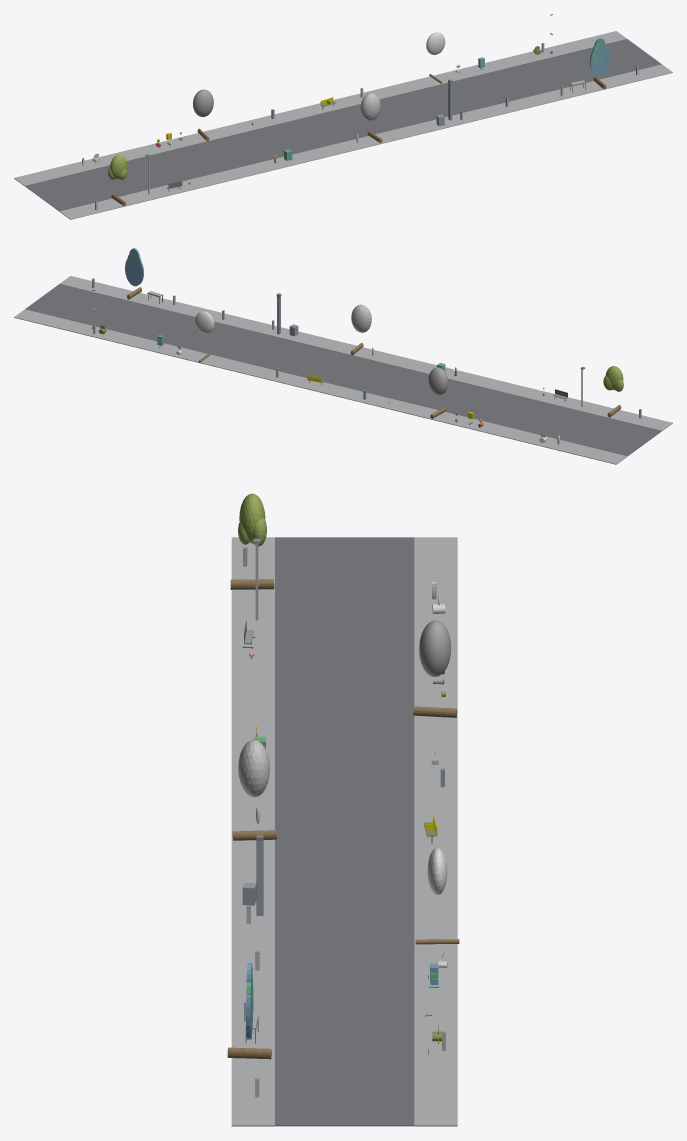
The picture shows the model from 3 angles, top to bottom: view 1: azimuth 30°, elevation 25°; view 2: azimuth 150°, elevation 25°; view 3: azimuth 270°, elevation 25°; orthographic projection. The views are drawn at different scales.
Visible parts, largest first — view 1: road_slab, sidewalk_left, sidewalk_right, inst_0016, inst_0014, inst_0013, inst_0012, inst_0015; view 2: road_slab, sidewalk_right, sidewalk_left, inst_0016, inst_0014, inst_0013, inst_0012, inst_0015; view 3: road_slab, sidewalk_right, sidewalk_left, inst_0013, inst_0014, inst_0012, inst_0016, inst_0015.
Part boxes in pixels (left/top/right/bottom): road_slab: left=25, top=39, right=661, bottom=211; sidewalk_left: left=59, top=64, right=672, bottom=219; sidewalk_right: left=14, top=31, right=626, bottom=186; inst_0016: left=589, top=38, right=610, bottom=89; inst_0014: left=360, top=93, right=382, bottom=143; inst_0013: left=193, top=89, right=213, bottom=141; inst_0012: left=108, top=155, right=127, bottom=206; inst_0015: left=426, top=32, right=445, bottom=83; road_slab: left=25, top=284, right=661, bottom=456; sidewalk_right: left=14, top=309, right=627, bottom=464; sidewalk_left: left=60, top=276, right=672, bottom=430; inst_0016: left=125, top=248, right=143, bottom=299; inst_0014: left=350, top=304, right=371, bottom=355; inst_0013: left=428, top=367, right=448, bottom=418; inst_0012: left=603, top=366, right=623, bottom=417; inst_0015: left=195, top=311, right=214, bottom=362; road_slab: left=275, top=537, right=414, bottom=1126; sidewalk_right: left=414, top=537, right=457, bottom=1126; sidewalk_left: left=231, top=537, right=274, bottom=1126; inst_0013: left=413, top=620, right=457, bottom=717; inst_0014: left=232, top=739, right=276, bottom=840; inst_0012: left=230, top=493, right=274, bottom=589; inst_0016: left=227, top=963, right=271, bottom=1059; inst_0015: left=415, top=847, right=459, bottom=944.
Bounding box in the file's own units: 80 × 6.08 × 13.31.
